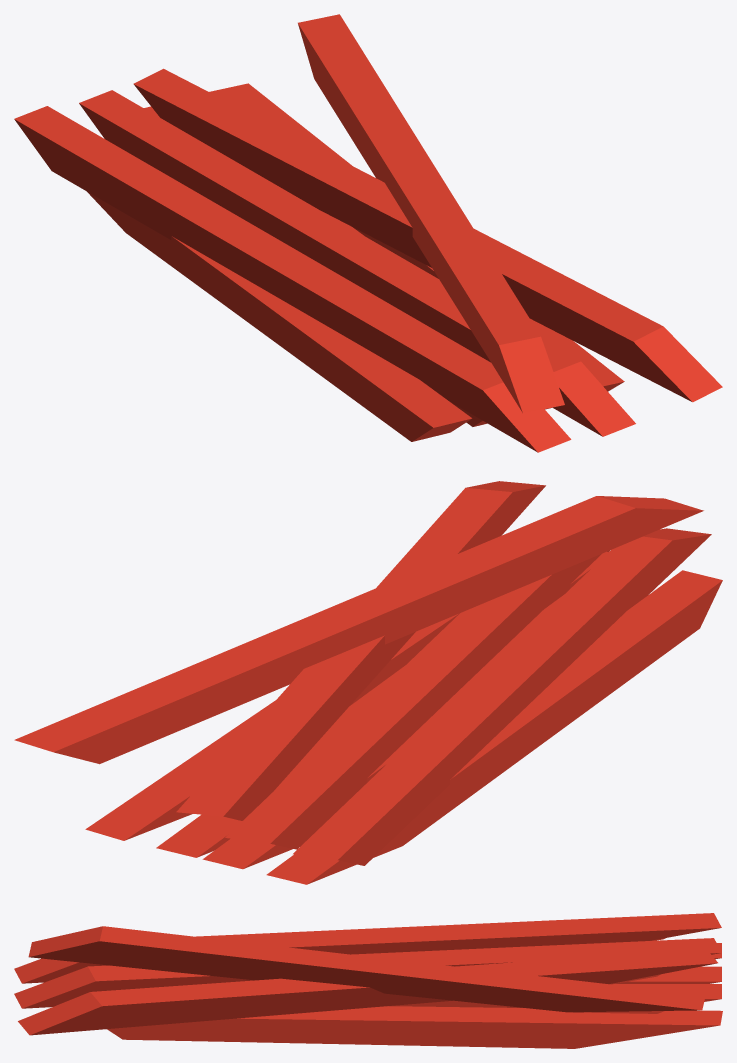
File: musaengchae.fbx
3 renders of one model, top to bottom at view 1: azimuth 30°, elevation 25°; view 2: azimuth 150°, elevation 25°; view 3: azimuth 270°, elevation 25°, orthographic. The views are drawn at different scales.
Visible parts, largest first — view 1: musaengchae; view 2: musaengchae; view 3: musaengchae.
Boxes of the visible parts, box(x1,y1,x2,y2) form: musaengchae: box(14, 14, 722, 452); musaengchae: box(14, 481, 722, 884); musaengchae: box(14, 913, 722, 1048).
Bounding box in the file's own units: 23.66 × 6.32 × 57.62.
